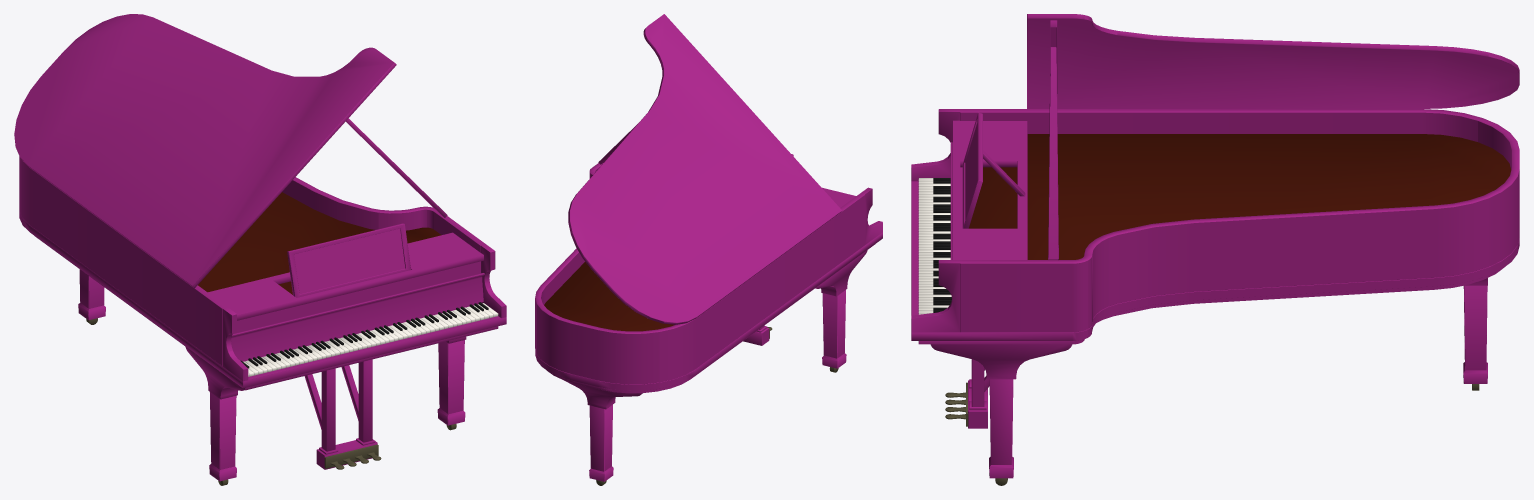
Rendered from barbie piano.fbx.
The picture shows the model from 3 angles, left to right: view 1: azimuth 30°, elevation 25°; view 2: azimuth 150°, elevation 25°; view 3: azimuth 270°, elevation 25°; orthographic projection. The views are drawn at different scales.
Parts seen in each view (by area): view 1: Piano; view 2: Piano; view 3: Piano.
Part boxes in pixels (bbox=[...]): Piano: bbox=[14, 14, 506, 485]; Piano: bbox=[535, 14, 882, 485]; Piano: bbox=[911, 14, 1519, 485].
Size of the model in its own units: 152 by 202 by 251.
